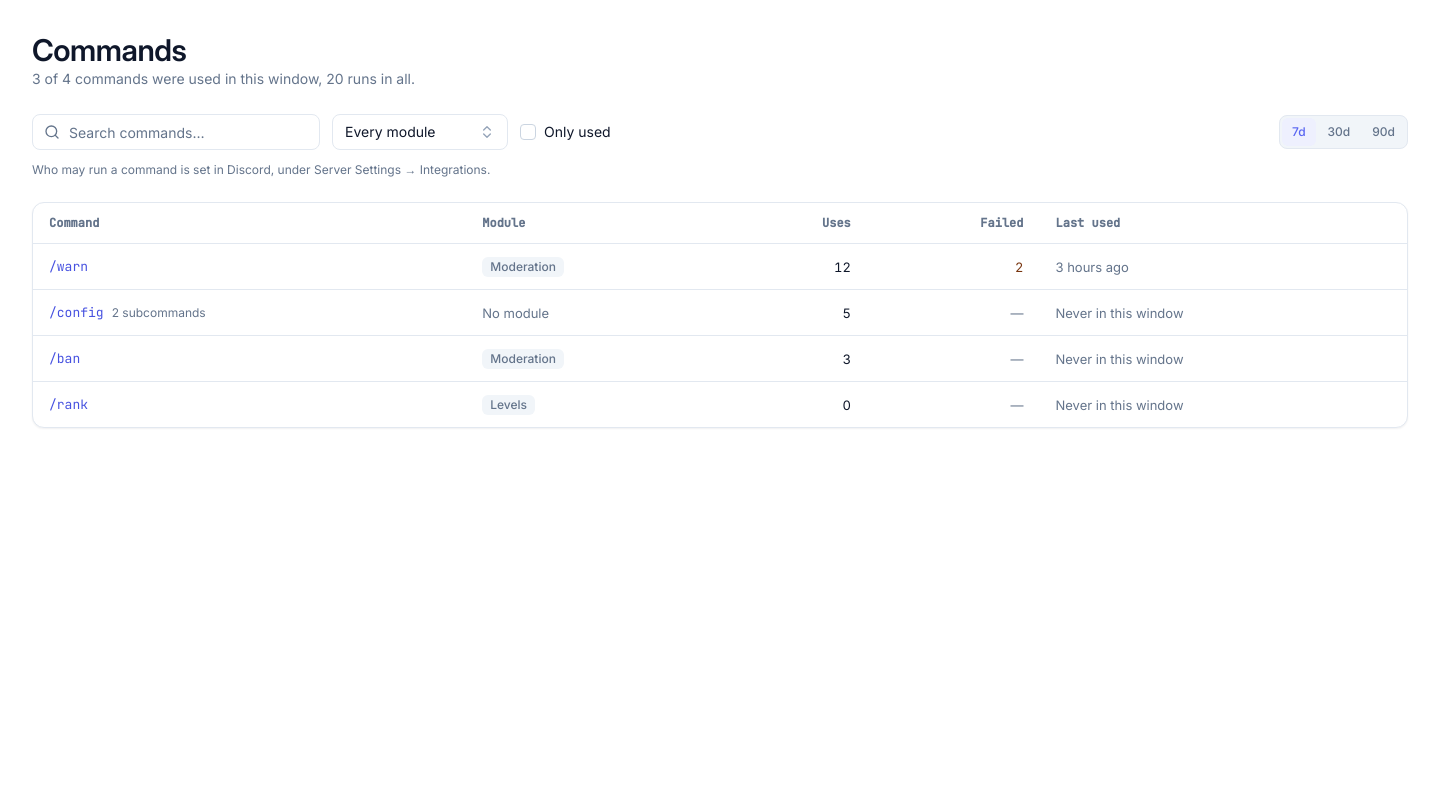
it: CommandsScreen › explains in the drawer what a failure is, so the number is not read as a refusal
This screenshot has width=1440, height=810.
Click the button "/warn" at x=68, y=267, box [49,257,88,277]
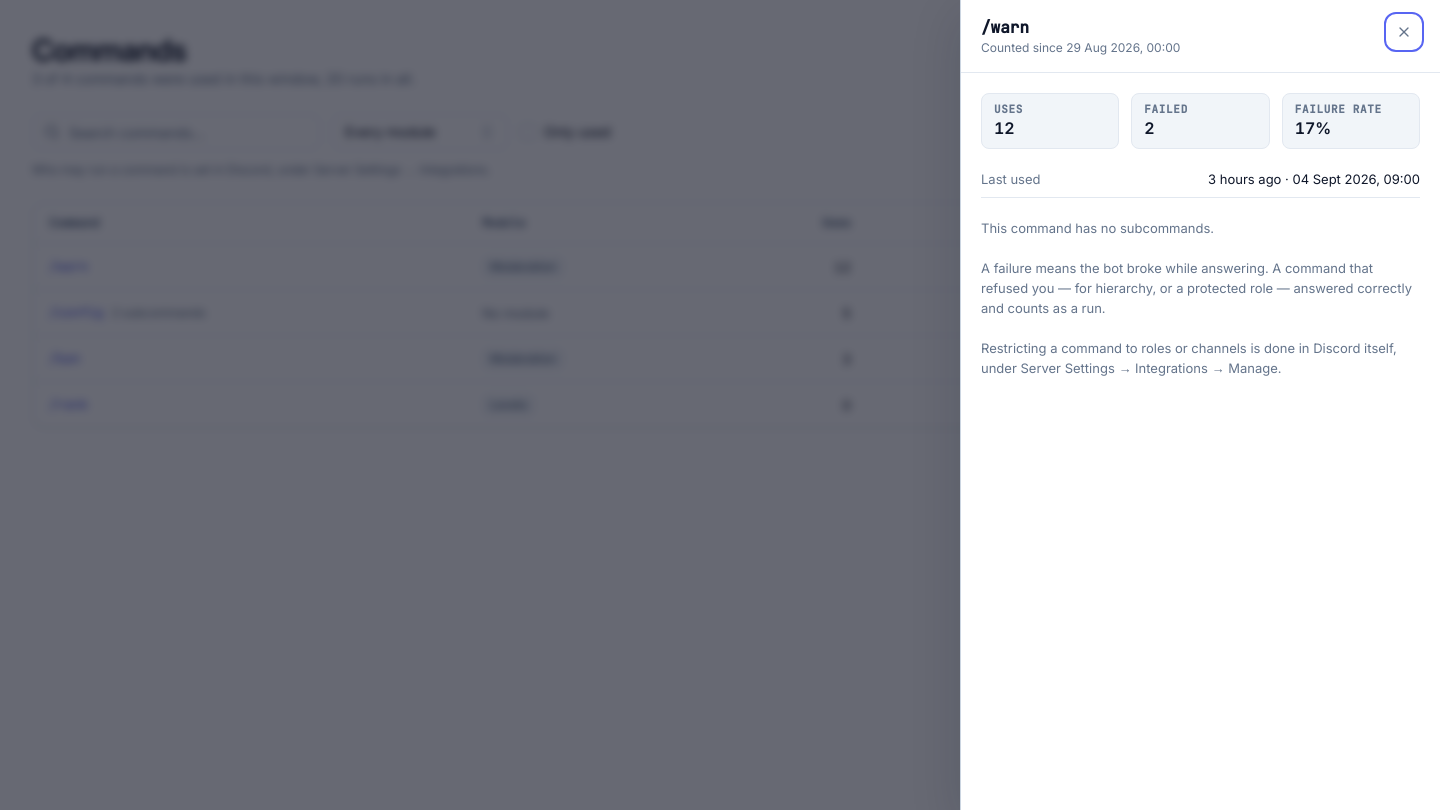
Expected: the text "A failure means the bot broke while answering. A command that refused you — for hierarchy, or a protected role — answere" is shown, [981,260,1412,316]
